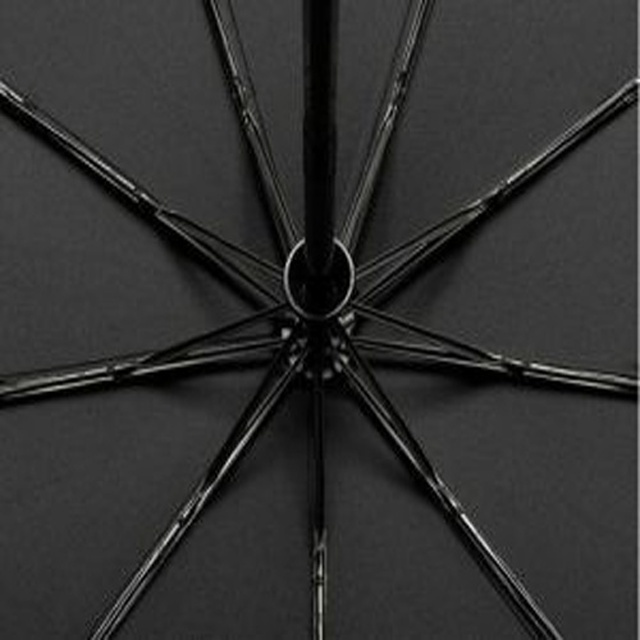umbrella: (1, 1, 640, 640)
